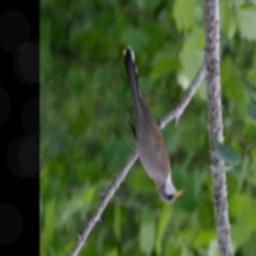Cuckoo: (121, 44, 185, 205)
